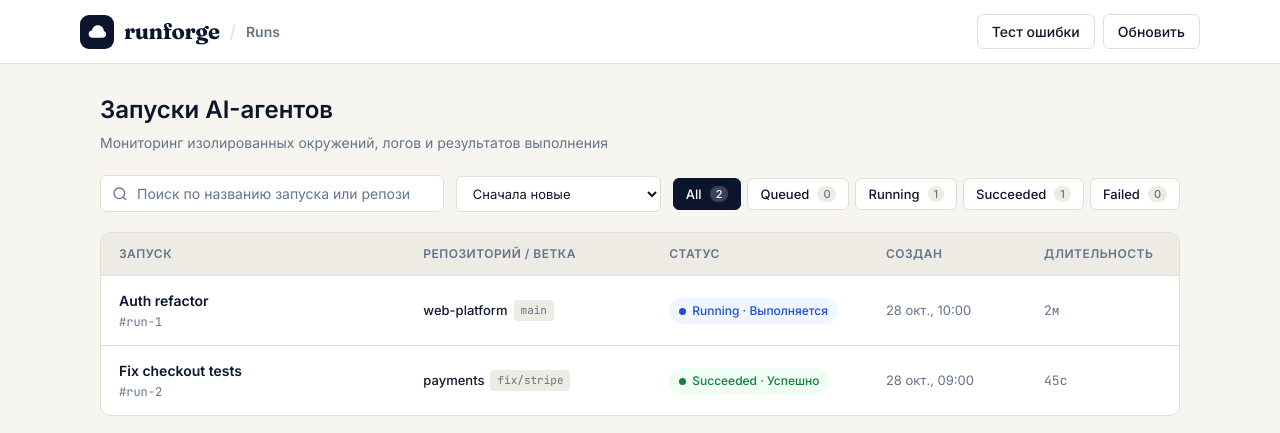
Runforge Runs Dashboard › 2. Поиск по названию или репозиторию фильтрует список
expect the text "Auth refactor" is shown: met, box [119,292,209,309]
Type "payments" into the field with placeholder "Поиск по названию запуска или репозиторию..." at (272, 194), box [100,175,444,212]
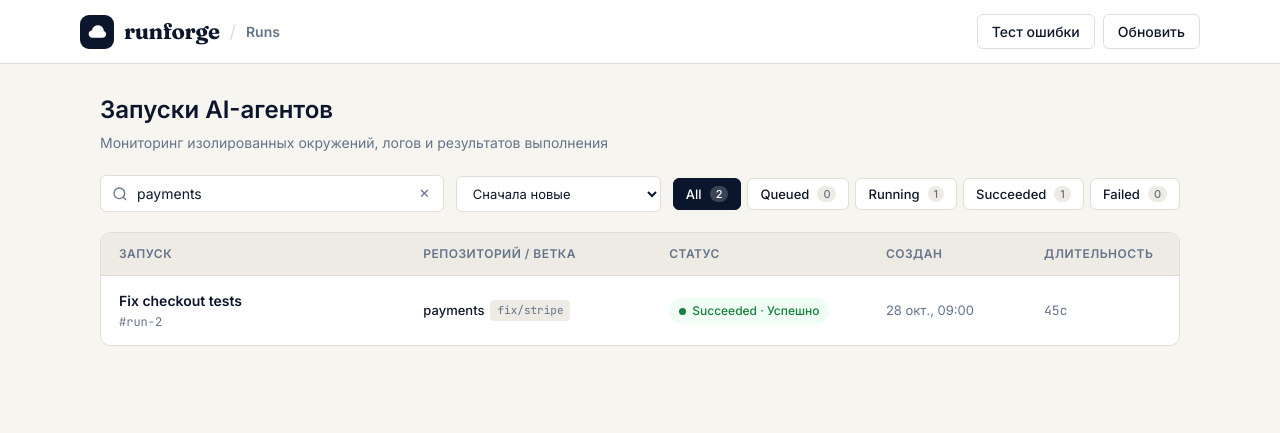
expect the text "Fix checkout tests" is shown: met, box [119,292,242,309]
expect the button "Auth refactor" is gone: met
